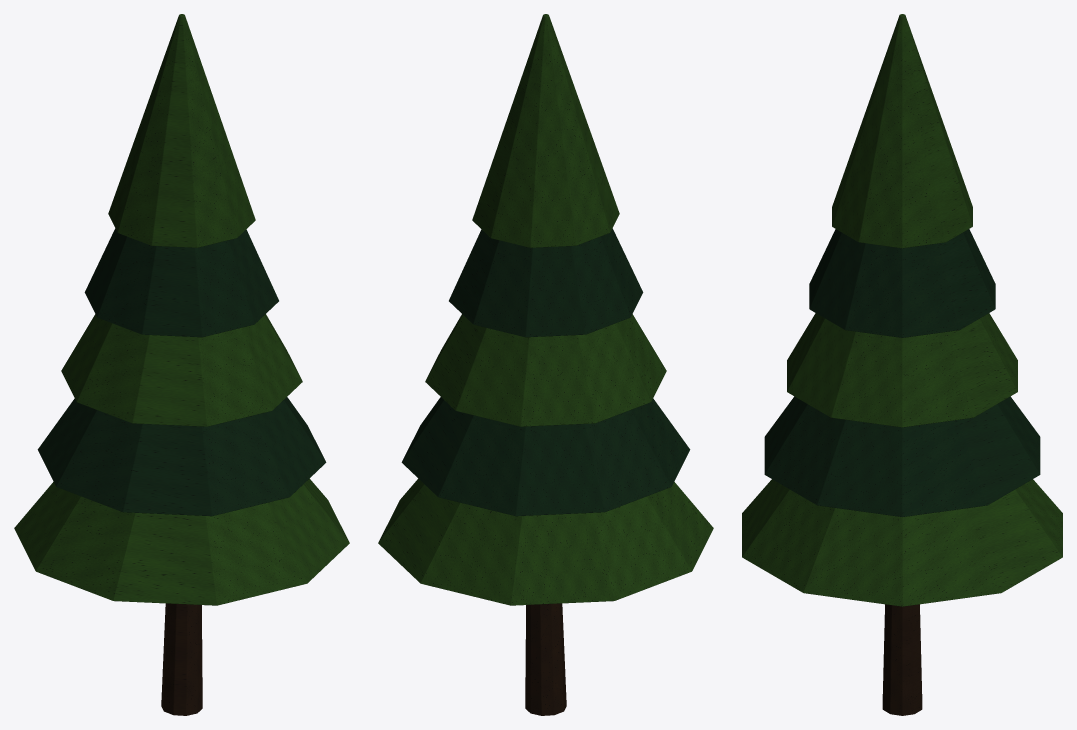
Rendered from PROP-DD08FCDEE421_lod1.glb.
3 views of the same model, side by side, from view 1: azimuth 30°, elevation 25°; view 2: azimuth 150°, elevation 25°; view 3: azimuth 270°, elevation 25° (orthographic).
Visible parts, largest first — view 1: layered_conifer_crown.022, layered_conifer_crown.023, trunk.012; view 2: layered_conifer_crown.022, layered_conifer_crown.023, trunk.012; view 3: layered_conifer_crown.022, layered_conifer_crown.023, trunk.012.
Boxes of the visible parts, x1,y1,x2,y2 form: layered_conifer_crown.022: (14, 14, 349, 605); layered_conifer_crown.023: (37, 228, 326, 516); trunk.012: (161, 603, 202, 715); layered_conifer_crown.022: (378, 14, 713, 605); layered_conifer_crown.023: (401, 228, 690, 516); trunk.012: (525, 603, 566, 715); layered_conifer_crown.022: (742, 14, 1062, 606); layered_conifer_crown.023: (764, 229, 1040, 516); trunk.012: (882, 604, 922, 715).
Bounding box in the file's own units: 3.87 × 8.75 × 3.68.
3 materials, 3 textured.
